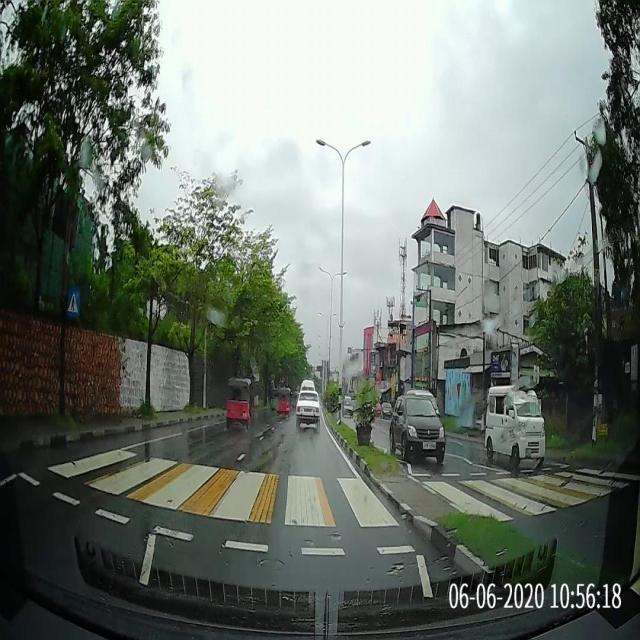Crosswalk: (12, 441, 637, 558)
